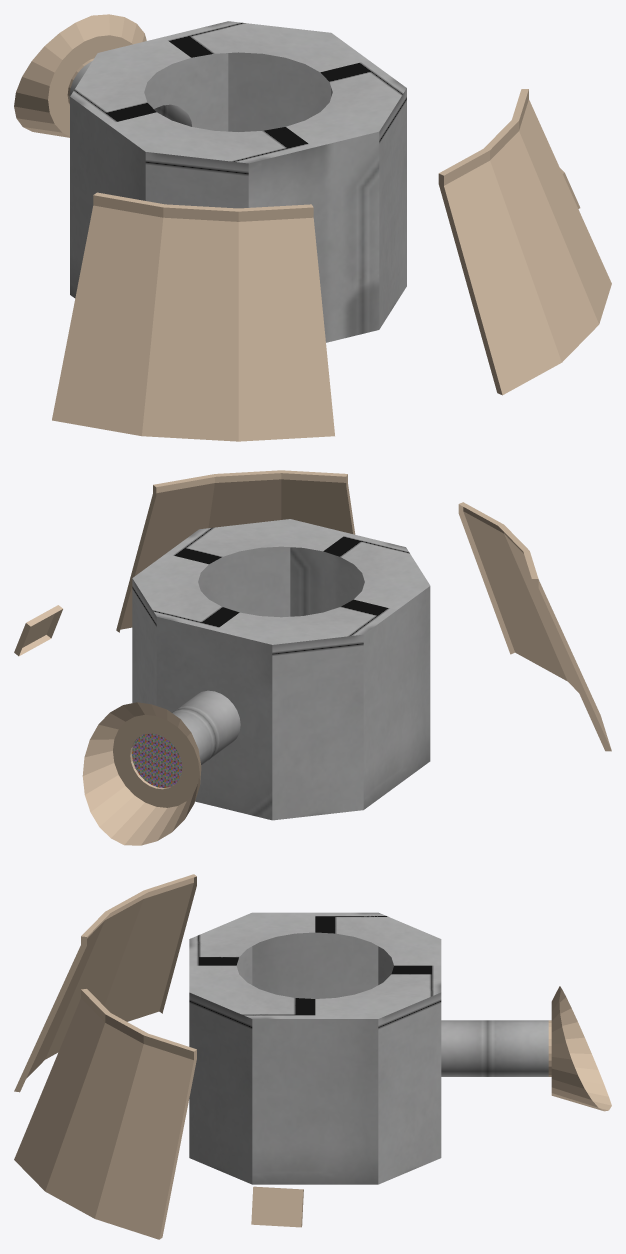
File: vega_adapter_s2_s1p5_1_interior.obj
The picture shows the model from 3 angles, top to bottom: view 1: azimuth 30°, elevation 25°; view 2: azimuth 150°, elevation 25°; view 3: azimuth 270°, elevation 25°; orthographic projection. The views are drawn at different scales.
Parts seen in each view (by area): view 1: im1, i1; view 2: i1, im1, iw1; view 3: i1, im1.
Boxes of the visible parts, x1=… form: im1: x1=14, y1=14, x2=611, y2=441; i1: x1=69, y1=21, x2=406, y2=342; i1: x1=132, y1=519, x2=430, y2=820; im1: x1=14, y1=470, x2=611, y2=845; iw1: x1=132, y1=733, x2=182, y2=787; i1: x1=189, y1=912, x2=548, y2=1184; im1: x1=14, y1=874, x2=611, y2=1239.
Size of the model in its own units: 2.26 by 0.7375 by 2.37.
